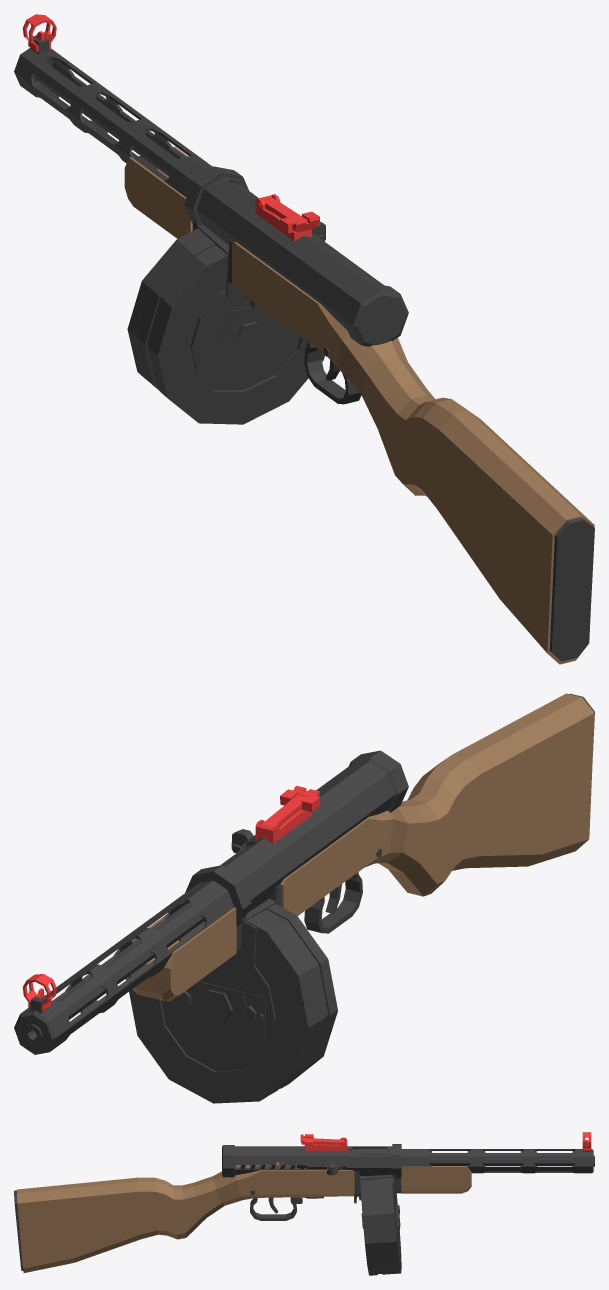
Rendered from subfusil_13.glb.
The picture shows the model from 3 angles, top to bottom: view 1: azimuth 30°, elevation 25°; view 2: azimuth 150°, elevation 25°; view 3: azimuth 270°, elevation 25°; orthographic projection. The views are drawn at different scales.
Visible parts, largest first — view 1: p24_accent, p15_paint, p7_paint, p0_paint, p57_paint, p4_accent, p19_paint, p6_paint, p32_paint; view 2: p24_accent, p6_paint, p7_paint, p0_paint, p15_paint, p4_accent, p12_paint, p32_paint, p14_paint, p26_del, p8_paint, p1_del (+1 smaller); view 3: p24_accent, p0_paint, p7_paint, p15_paint, p4_accent, p6_paint, p32_paint, p26_del, p17_paint, p57_paint, p14_paint.
Boxes of the visible parts, <box> form: p24_accent: <box>232,242,594,664</box>; p15_paint: <box>135,235,325,424</box>; p7_paint: <box>184,166,408,346</box>; p0_paint: <box>14,47,212,197</box>; p57_paint: <box>549,517,594,661</box>; p4_accent: <box>124,146,192,238</box>; p19_paint: <box>217,306,278,364</box>; p6_paint: <box>127,228,205,380</box>; p32_paint: <box>304,342,361,404</box>; p24_accent: <box>280,693,594,915</box>; p6_paint: <box>129,917,315,1103</box>; p7_paint: <box>185,750,408,926</box>; p0_paint: <box>14,880,234,1054</box>; p15_paint: <box>254,904,337,1094</box>; p4_accent: <box>125,907,236,1001</box>; p12_paint: <box>169,981,266,1037</box>; p32_paint: <box>304,872,362,933</box>; p14_paint: <box>215,898,276,975</box>; p26_del: <box>255,809,311,843</box>; p8_paint: <box>200,989,232,1023</box>; p1_del: <box>22,974,56,1011</box>; p24_accent: <box>17,1162,354,1272</box>; p0_paint: <box>401,1149,594,1173</box>; p7_paint: <box>222,1144,401,1178</box>; p15_paint: <box>360,1178,393,1275</box>; p4_accent: <box>401,1166,471,1193</box>; p6_paint: <box>384,1177,401,1273</box>; p32_paint: <box>250,1196,323,1220</box>; p26_del: <box>306,1137,347,1150</box>; p17_paint: <box>358,1148,389,1160</box>; p57_paint: <box>14,1190,23,1270</box>; p14_paint: <box>359,1174,396,1205</box>.
Size of the model in its own units: 0.1512 by 0.2068 by 0.788.
